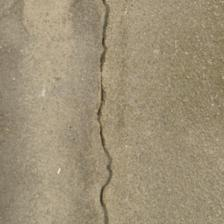Crack: (44, 1, 75, 222)
